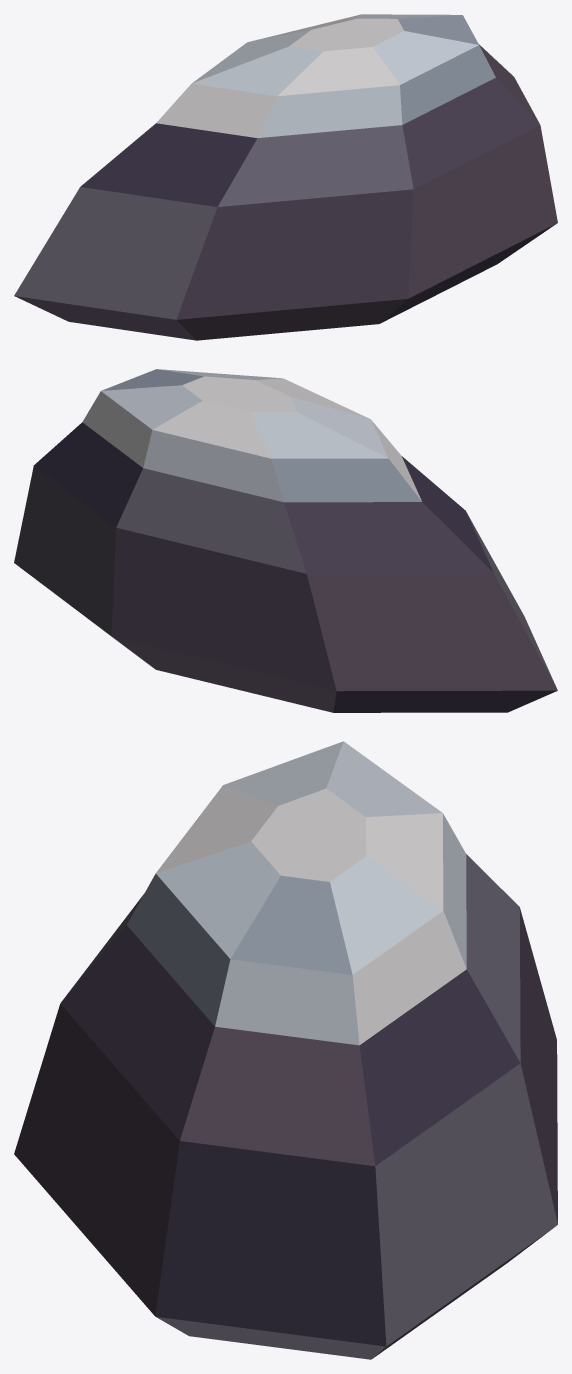
The model's file is frosted-shelf.glb.
3 views of the same model, one above another, from view 1: azimuth 30°, elevation 25°; view 2: azimuth 150°, elevation 25°; view 3: azimuth 270°, elevation 25° (orthographic). The views are drawn at different scales.
Parts seen in each view (by area): view 1: frosted-shelf; view 2: frosted-shelf; view 3: frosted-shelf.
Boxes of the visible parts, x1,y1,x2,y2 form: frosted-shelf: (14, 14, 557, 340); frosted-shelf: (14, 369, 557, 712); frosted-shelf: (14, 741, 557, 1359).
Size of the model in its own units: 3.72 by 1.58 by 1.93.
